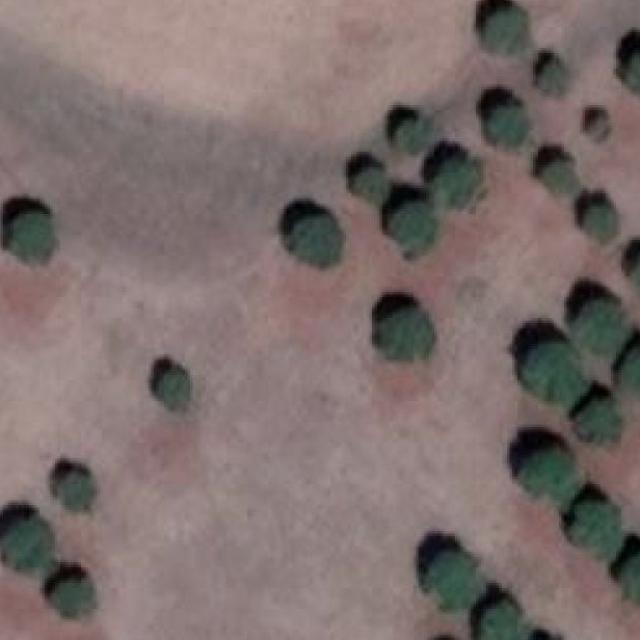Tree: (569, 297, 630, 360), (520, 442, 583, 503), (422, 552, 484, 612), (526, 342, 583, 404), (1, 516, 63, 572), (3, 209, 60, 269), (367, 306, 427, 360), (564, 500, 619, 557), (434, 154, 486, 214), (388, 196, 440, 252), (289, 216, 346, 266), (572, 394, 620, 449), (479, 6, 534, 53), (486, 98, 531, 152), (574, 202, 622, 243), (45, 576, 89, 617), (481, 603, 528, 640), (538, 157, 580, 196), (536, 58, 570, 103), (616, 341, 640, 401), (52, 472, 91, 506), (393, 118, 427, 155), (616, 552, 640, 604), (351, 168, 388, 198), (159, 368, 190, 402), (583, 110, 609, 139), (626, 48, 640, 98), (628, 250, 640, 291)
